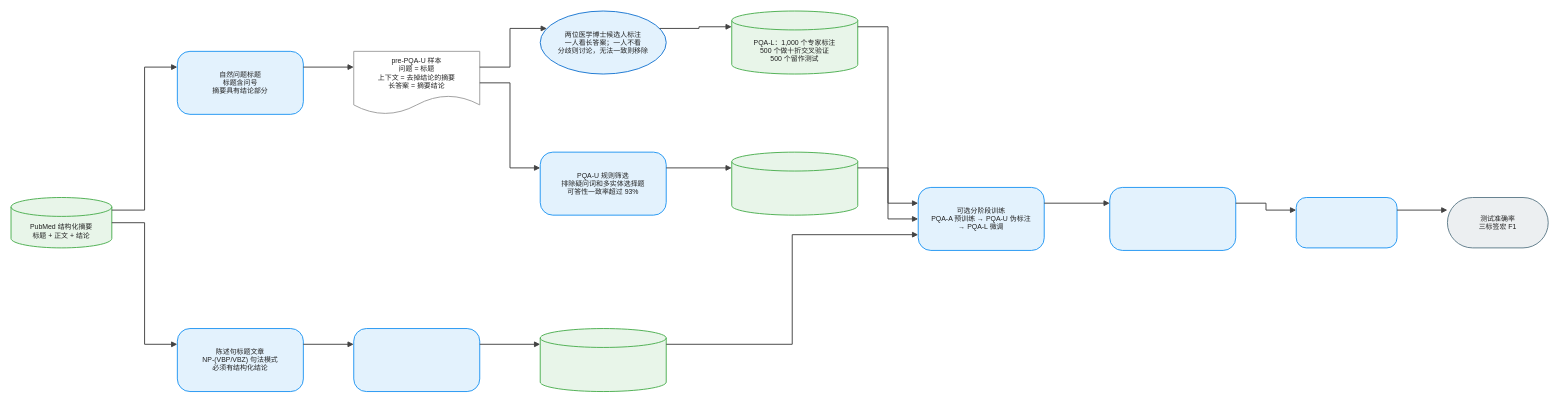
Image size: 1560x403. Some labels were removed from this diagram. The centre of each missing label's shape, as x and y in pixels:
"PQA-A：211.3K 个启发式生成样本 训练 200K / 验证 11.3K 是 92.8% / 否 7.2%" belongs at (x=602, y=360).
"PQA-L 需推理测试 输入：问题 + 上下文 推理时隐藏结论" belongs at (x=1172, y=219).
"PQA-U 61.2K 个未标注样本 可用是 / 否 / 不确定回答" belongs at (x=794, y=183).
"启发式问题转换 前移 / 添加系词或助动词 按动词否定状态标注是 / 否" belongs at (x=416, y=360).
"预测一个标签 是 / 否 / 不确定" belongs at (x=1346, y=222).
